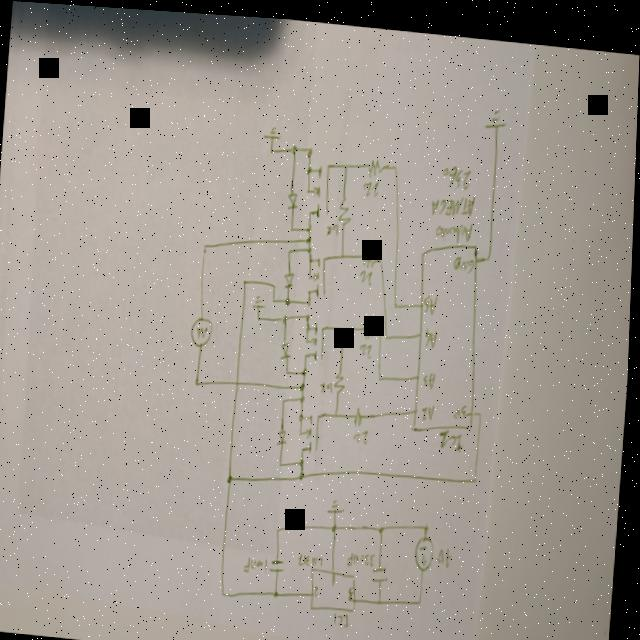capacitor: (374, 557, 392, 579), (272, 552, 288, 569)
crossover: (237, 374, 242, 384)
diode: (286, 184, 300, 207), (281, 335, 294, 355), (278, 422, 290, 442), (284, 266, 296, 284)
ground: (484, 98, 508, 126), (329, 492, 348, 510), (264, 121, 280, 136), (253, 291, 265, 305)
junction: (301, 376, 308, 389), (486, 244, 493, 257), (301, 452, 308, 464), (306, 305, 313, 317), (286, 291, 292, 304), (229, 470, 236, 481), (291, 139, 297, 151), (301, 465, 307, 477), (426, 516, 433, 526), (334, 517, 340, 528), (381, 519, 387, 530), (283, 309, 289, 320), (393, 156, 399, 167), (301, 389, 307, 400), (307, 242, 313, 253), (474, 469, 481, 478), (303, 363, 309, 373), (276, 585, 282, 595), (341, 246, 347, 256), (196, 375, 202, 385), (307, 294, 313, 304), (204, 239, 210, 249), (307, 142, 313, 152), (342, 319, 347, 330), (335, 405, 341, 414), (307, 232, 313, 241), (479, 402, 485, 411), (343, 156, 348, 166), (420, 591, 425, 601), (394, 296, 400, 304), (290, 220, 296, 228), (308, 220, 313, 229), (224, 586, 229, 595), (380, 592, 385, 600), (386, 327, 391, 335), (379, 252, 384, 260), (288, 243, 292, 252), (279, 522, 283, 531), (281, 455, 285, 464), (274, 277, 278, 285), (244, 274, 248, 282), (270, 143, 274, 151), (380, 369, 384, 377), (284, 392, 288, 400), (273, 292, 277, 300), (258, 310, 262, 318), (287, 364, 291, 371)
resistor: (337, 190, 353, 223), (366, 151, 385, 173), (334, 364, 348, 391), (363, 318, 379, 335), (354, 400, 365, 422), (362, 248, 376, 264)
source: (416, 528, 438, 568)
text: (430, 184, 476, 214), (434, 214, 474, 239), (440, 156, 474, 185), (441, 423, 466, 448), (246, 550, 272, 571), (453, 246, 477, 268), (349, 544, 378, 562), (301, 548, 327, 564), (439, 538, 456, 562), (362, 173, 382, 193), (424, 319, 440, 344), (424, 286, 439, 310), (423, 364, 439, 384), (422, 396, 438, 416), (336, 606, 353, 623), (454, 396, 470, 414), (359, 264, 375, 281), (359, 337, 375, 353), (321, 375, 336, 390), (356, 424, 371, 439), (327, 217, 340, 233), (349, 579, 359, 597), (334, 567, 340, 583), (317, 579, 323, 593)
transistor: (304, 156, 333, 215), (305, 249, 330, 294), (304, 316, 328, 359), (299, 408, 323, 448)
